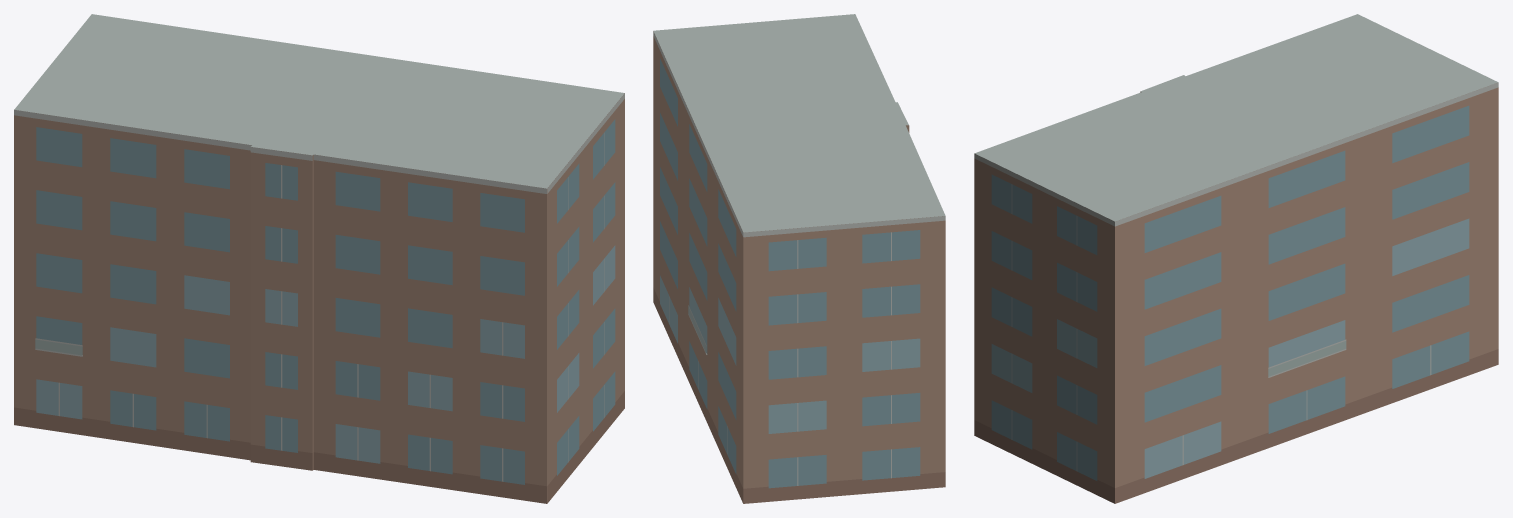
File: survey-upis-32628464.glb
3 renders of one model, left to right at view 1: azimuth 30°, elevation 25°; view 2: azimuth 150°, elevation 25°; view 3: azimuth 270°, elevation 25°, orthographic. The views are drawn at different scales.
Visible parts, largest first — view 1: survey-upis-32628464.tmp; view 2: survey-upis-32628464.tmp; view 3: survey-upis-32628464.tmp.
Boxes of the visible parts, x1=… form: survey-upis-32628464.tmp: x1=14, y1=14, x2=624, y2=503; survey-upis-32628464.tmp: x1=653, y1=14, x2=945, y2=503; survey-upis-32628464.tmp: x1=974, y1=14, x2=1498, y2=503.
Bounding box in the file's own units: 21.77 × 13.8 × 23.23.
